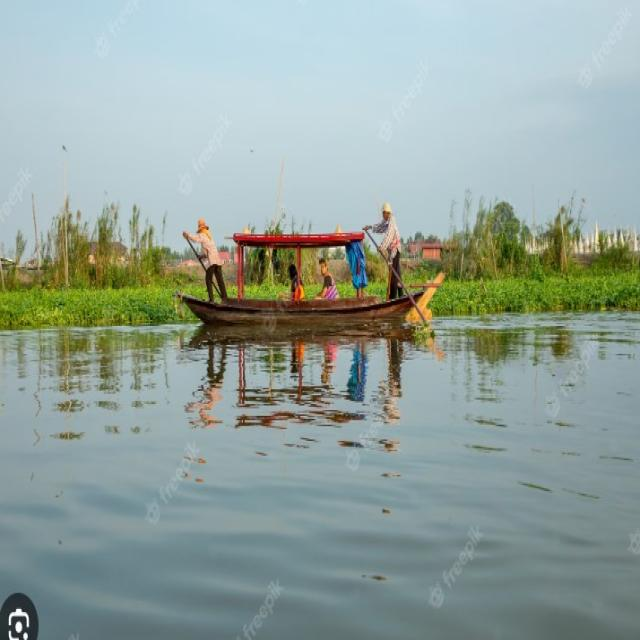boat: (178, 208, 456, 352)
